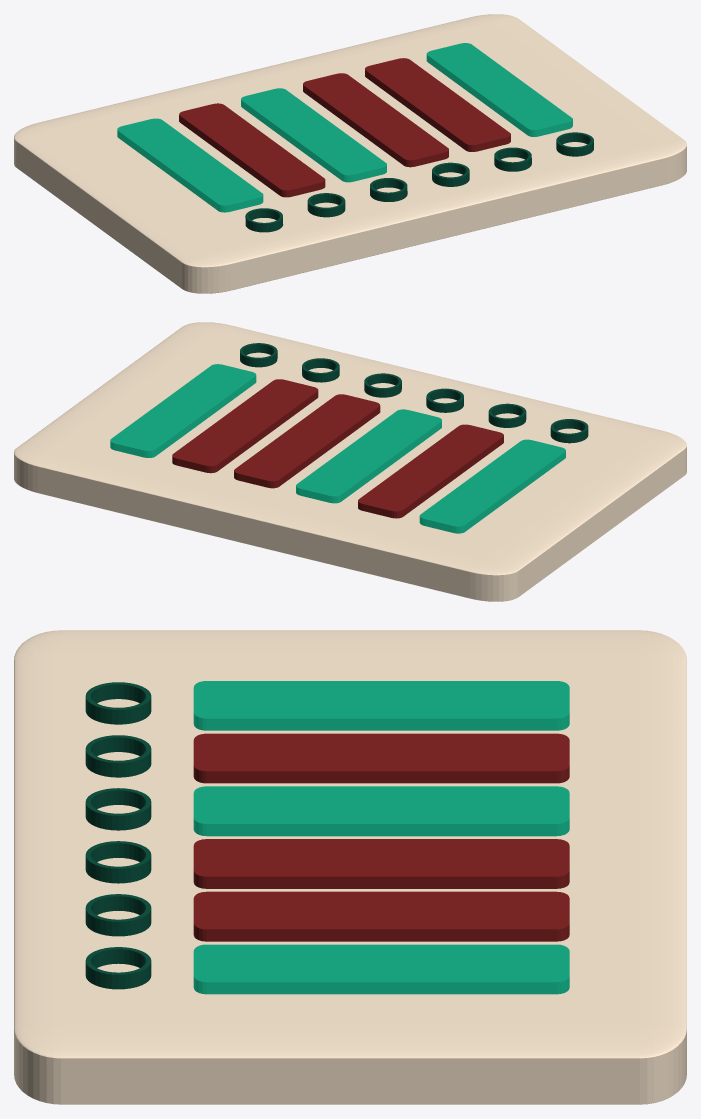
3 renders of one model, top to bottom at view 1: azimuth 30°, elevation 25°; view 2: azimuth 150°, elevation 25°; view 3: azimuth 270°, elevation 25°, orthographic. The views are drawn at different scales.
Visible parts, largest first — view 1: model; view 2: model; view 3: model.
Boxes of the visible parts, x1,y1,x2,y2 form: model: [14, 14, 686, 293]; model: [14, 322, 686, 601]; model: [14, 630, 686, 1104].
Size of the model in its own units: 3.61 by 0.2683 by 2.4.
